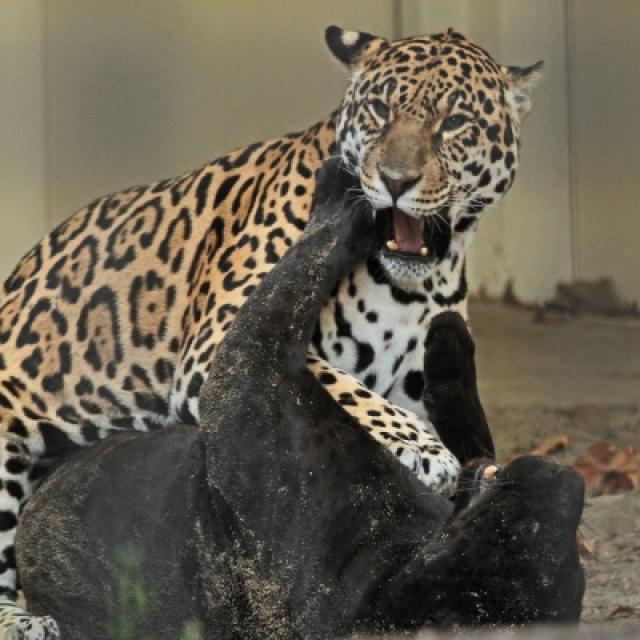Jaguar: (0, 27, 544, 605)
